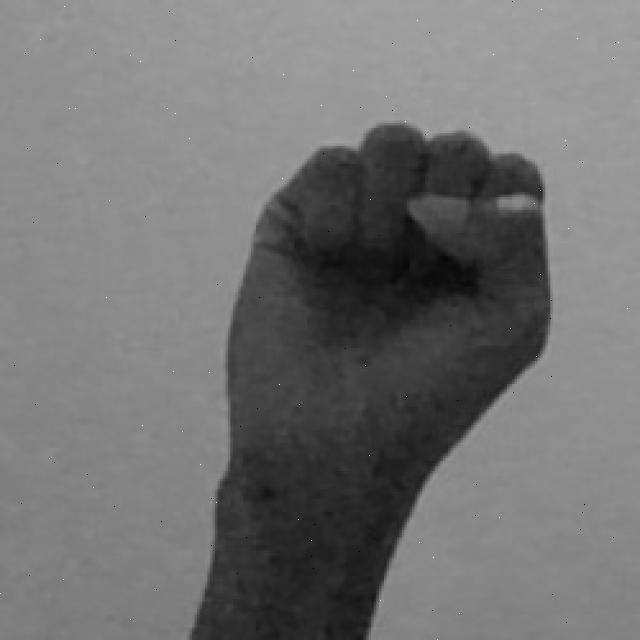S: (183, 114, 558, 640)
